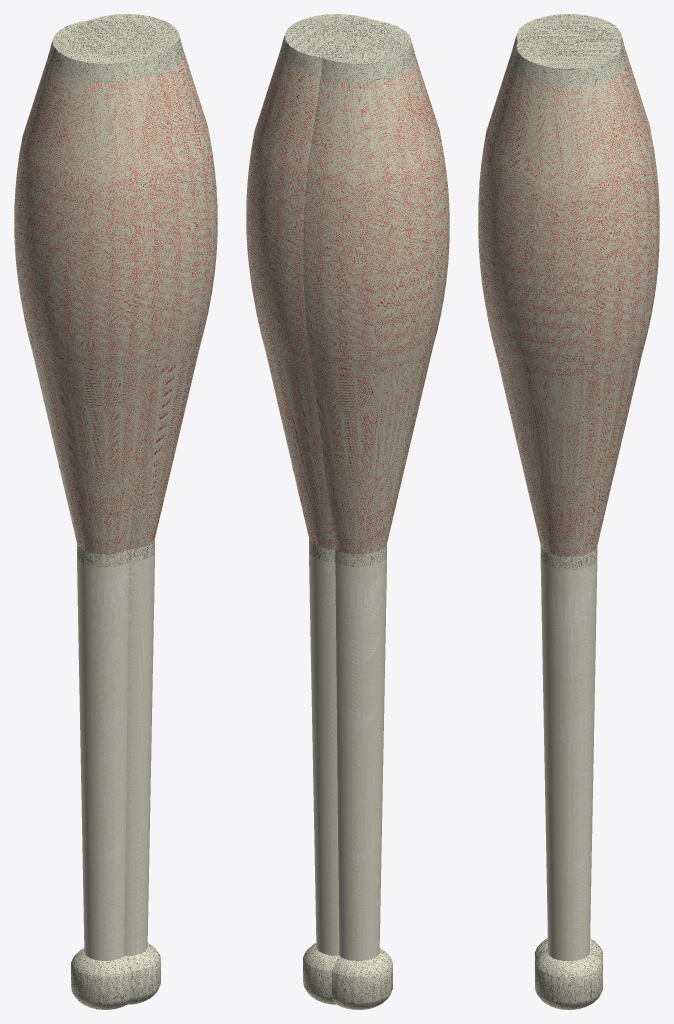
The model's file is juggle.dae.
3 renders of one model, left to right at view 1: azimuth 30°, elevation 25°; view 2: azimuth 150°, elevation 25°; view 3: azimuth 270°, elevation 25°, orthographic.
Parts seen in each view (by area): view 1: group_0 (×9); view 2: group_0 (×9); view 3: group_0 (×7).
Boxes of the visible parts, x1,y1,x2,y2 form: group_0 (×9): [14, 14, 217, 1009]; group_0 (×9): [246, 14, 449, 1009]; group_0 (×7): [478, 14, 659, 1009].
Bounding box in the file's own units: 15.32 × 13.5 × 78.35.
